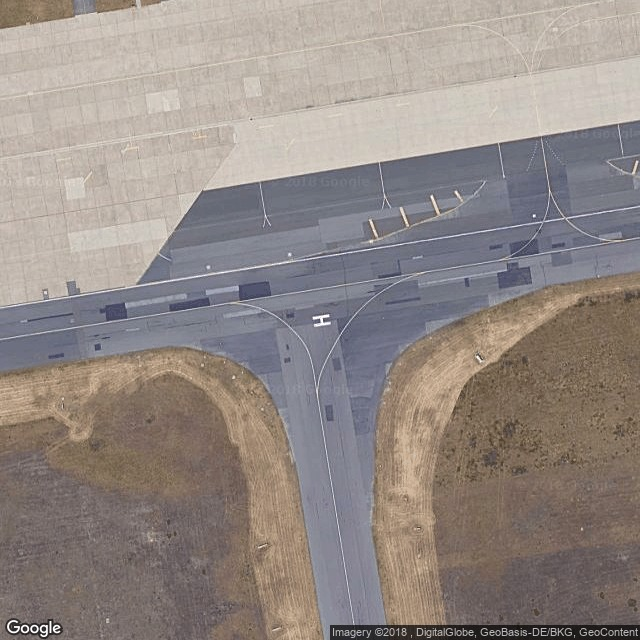heliport: (308, 305, 334, 329)
